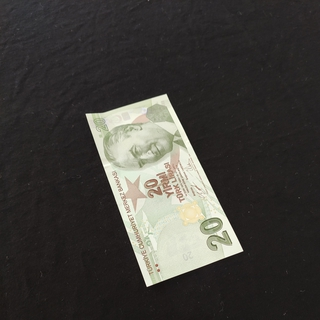20TLFront: (84, 92, 244, 288)
